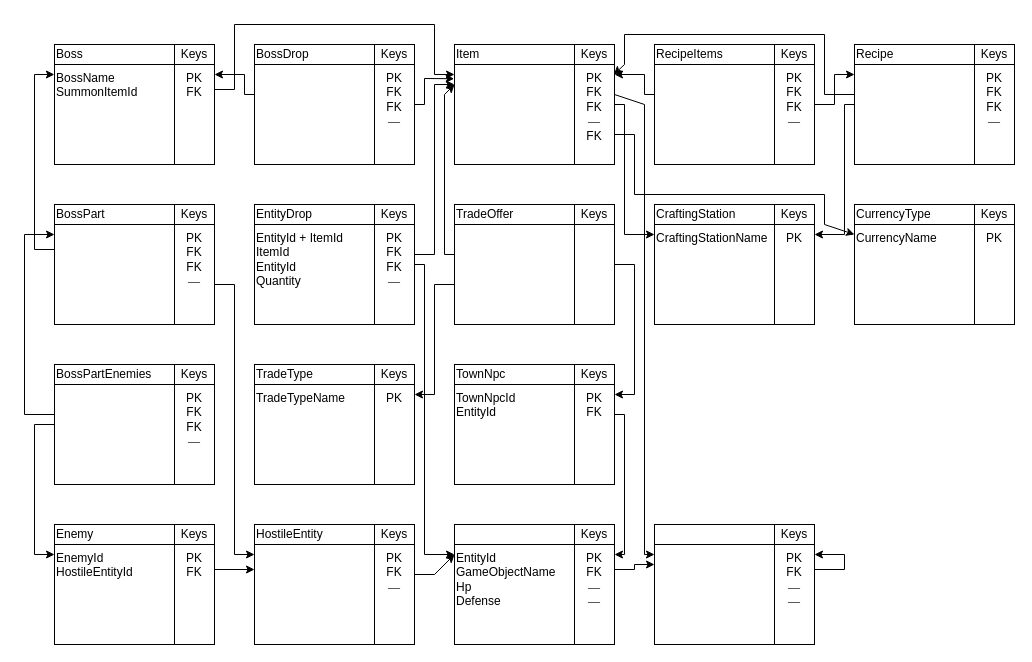
The diagram is 1032 pixels wide and 662 high, and some of its shapes have lost their labels. Each missing label, with the centre of its shape:
"BossName + ItemId BossName ItemId Quantity" belongs at [314,114].
"BossPartId + EnemyId BossPartId EnemyId Quantity" belongs at [114,434].
"BossPartId BossName HostileEntityId Quantity" belongs at [114,274].
"Entity" belongs at [514,534].
"GameObject" belongs at [714,534].
"GameObjectName TransformName Description Sprite" belongs at [714,594].
"HostileEntityId EntityId ContactDamage" belongs at [314,594].
"ItemId + RecipeId ItemId RecipeId Quantity" belongs at [714,114].
"ItemId + TownNpcId ItemId TownNpcId TradeTypeName Quantity" belongs at [514,274].
"ItemId GameObjectName CraftingStationName BasePrice CurrencyName" belongs at [514,114].
"PK FK FK FK —" belongs at [594,274].
"RecipeId ResultItemId CraftingStationName ResultItemQuantity" belongs at [914,114].
